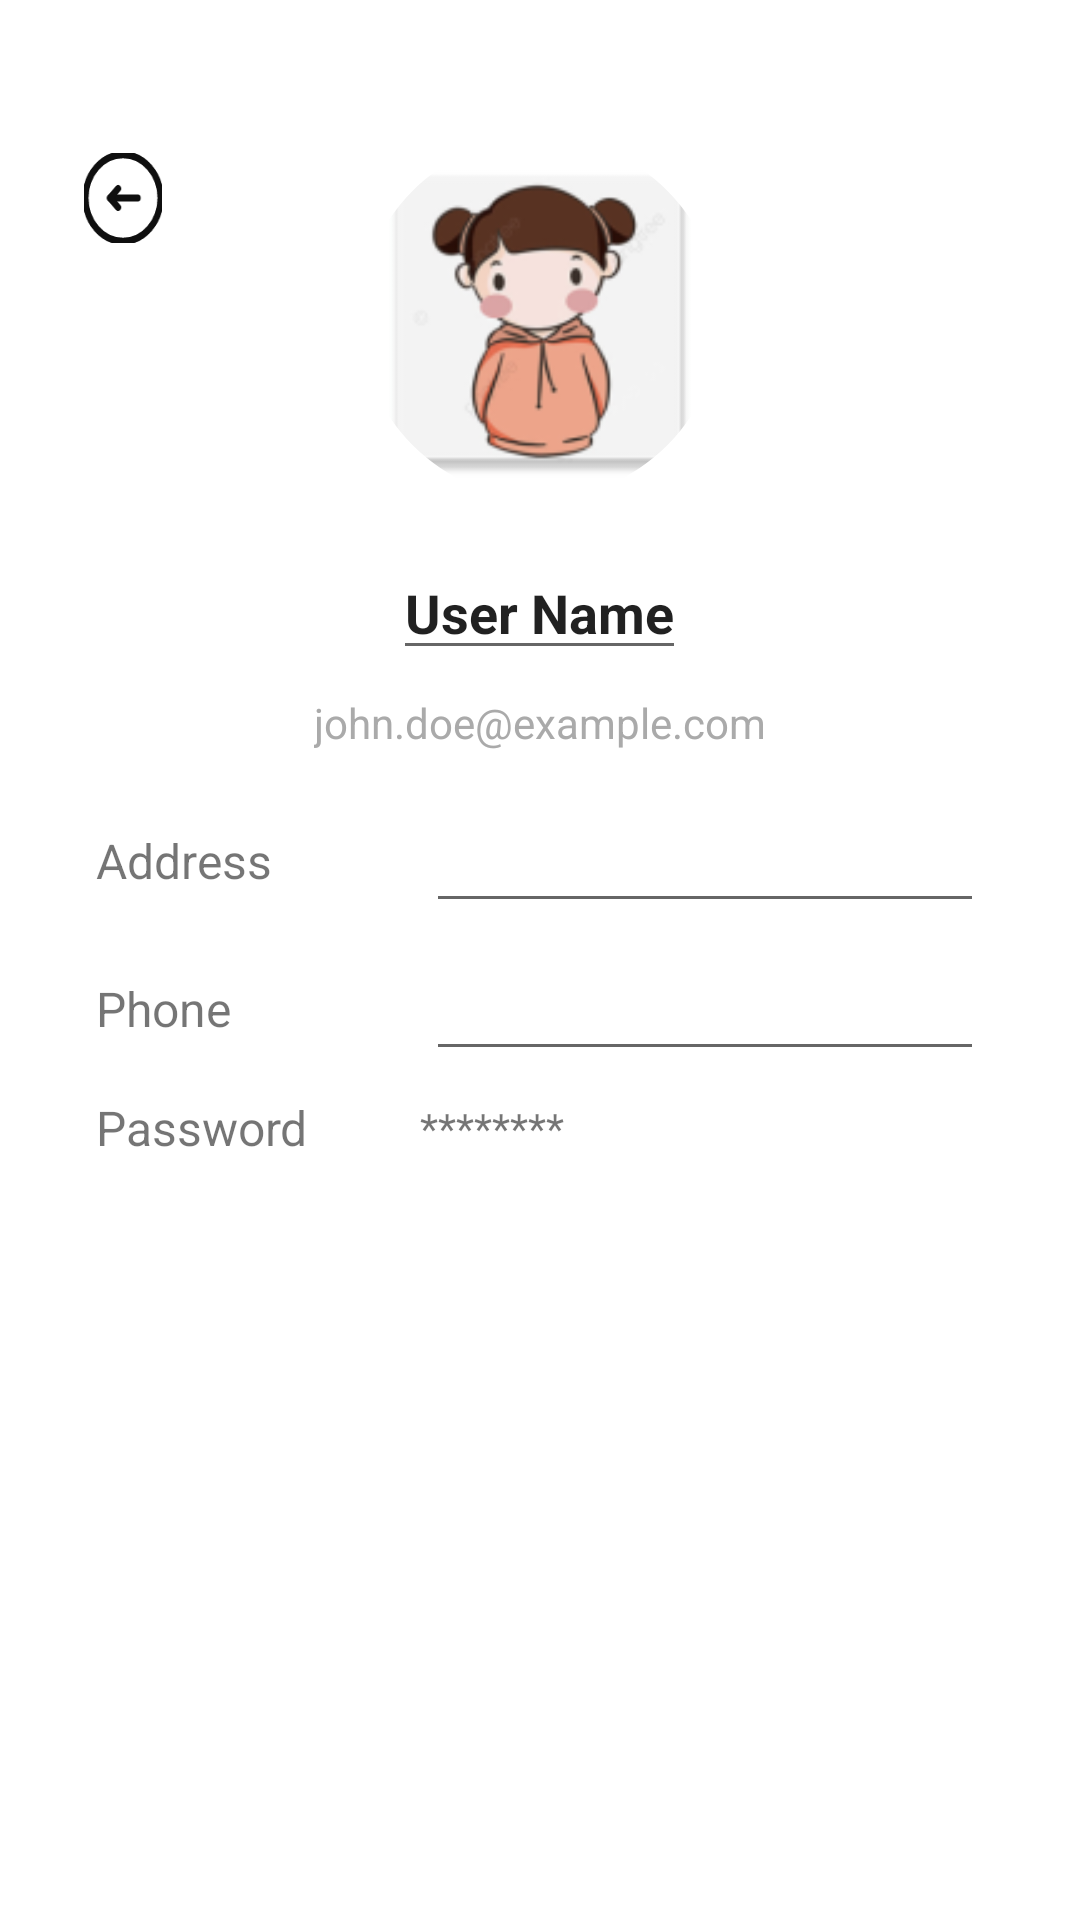

Named icons in this screenshot (1080px×1920px) and their centers, (x=x, y=y):
back: (x=123, y=198)
